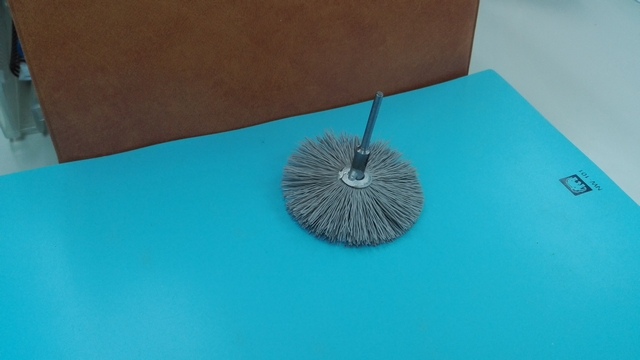TOOL: (240, 80, 472, 258), (274, 105, 430, 253), (282, 129, 428, 237)
